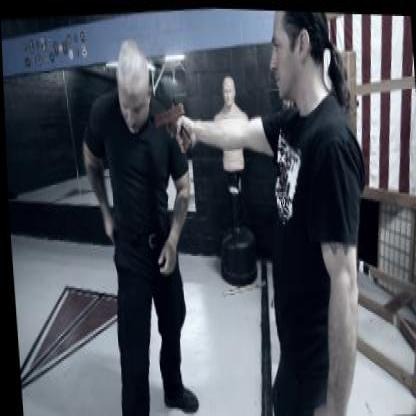pistol: (151, 97, 190, 148)
